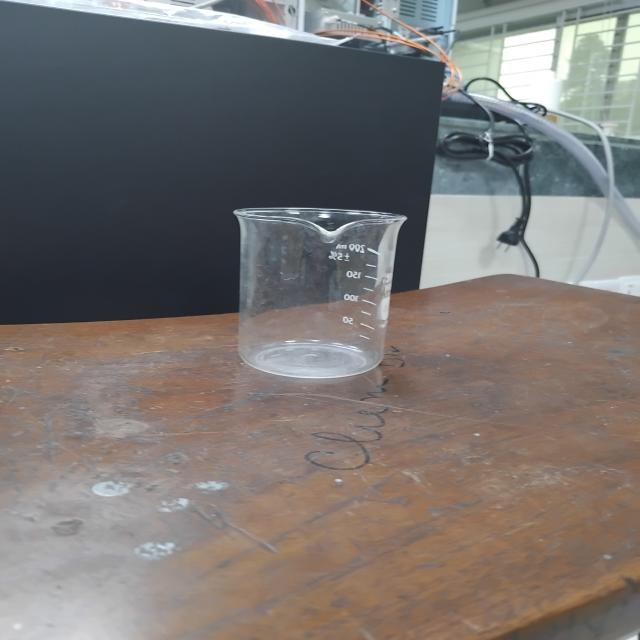Beaker: (190, 163, 427, 402)
